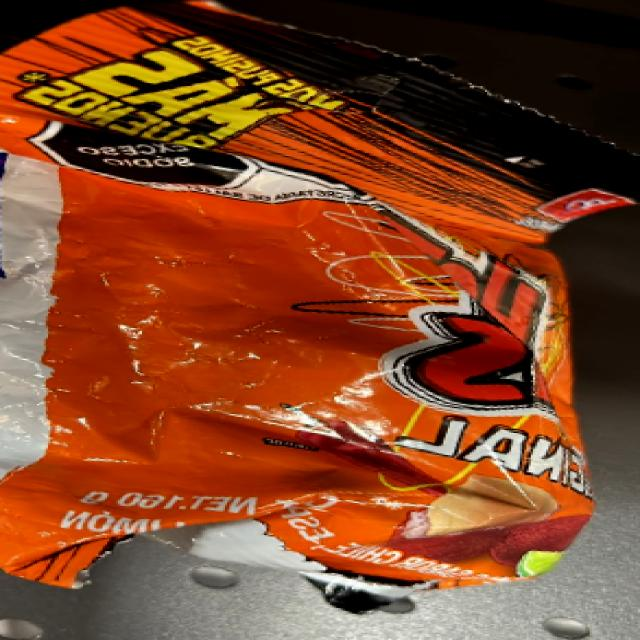hotNutsOriginal: (9, 34, 581, 568)
